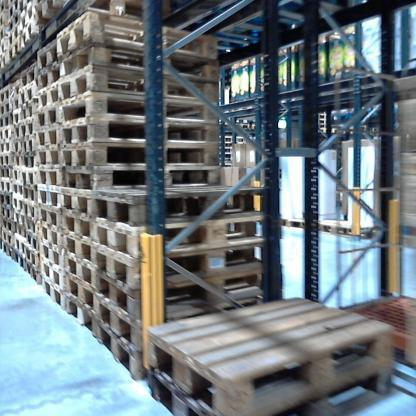pallets: (0, 1, 269, 382), (138, 293, 404, 415), (276, 214, 374, 239)
